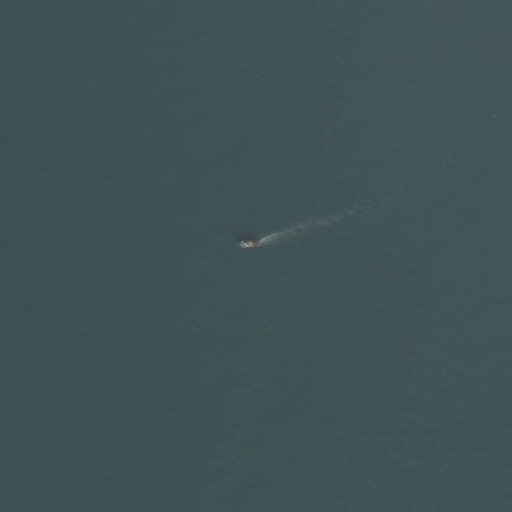ship: (236, 237, 260, 252)
